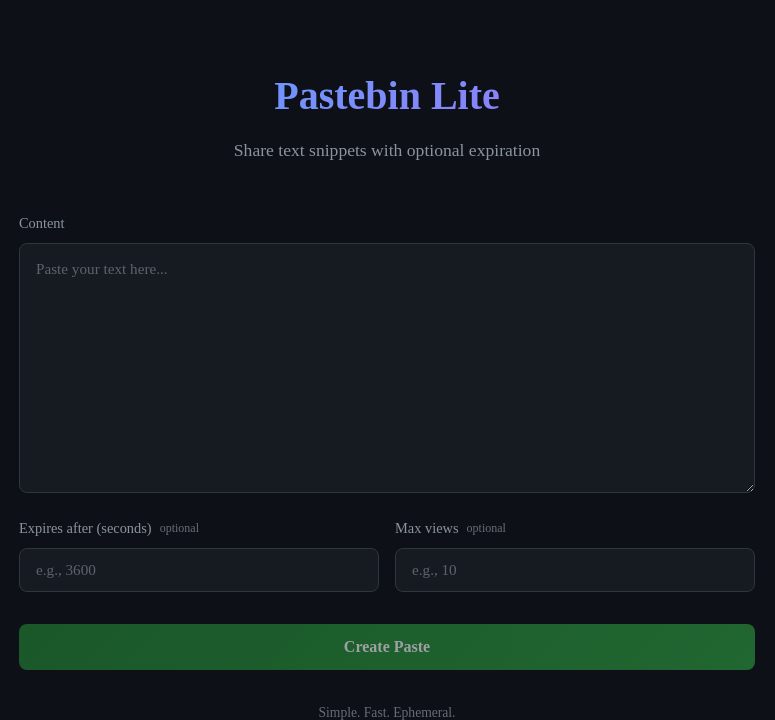
Home Page - Create Paste Form › form submission - success › should create paste and display URL on success
The width and height of the screenshot is (775, 720).
# Fill in content
Type "Test paste content" into the text box labelled "Content".
click(387, 368); type("Test paste content")  # box [19,243,755,493]
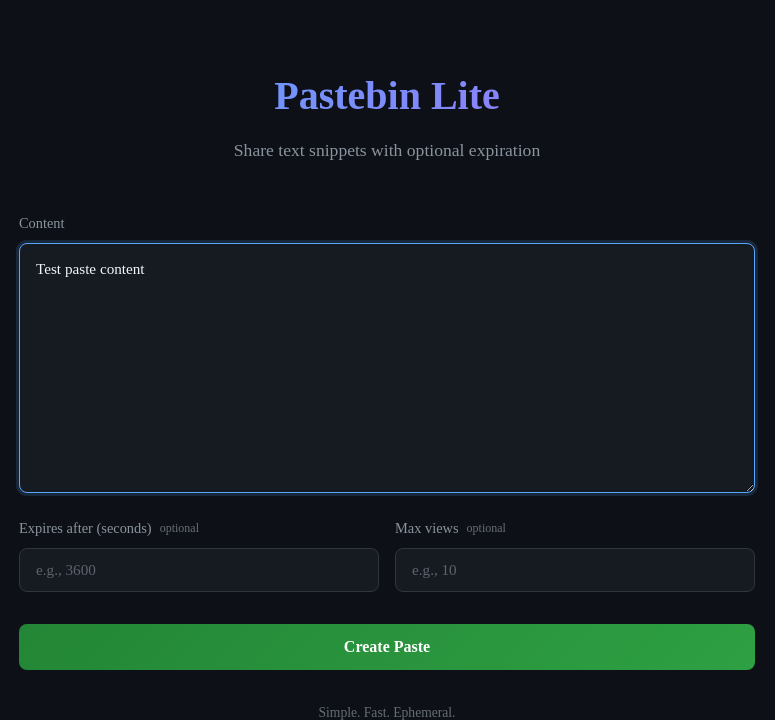
# Submit form
Click the button "Create Paste".
click(387, 647)  # box [19,624,755,670]
(page scrolled)
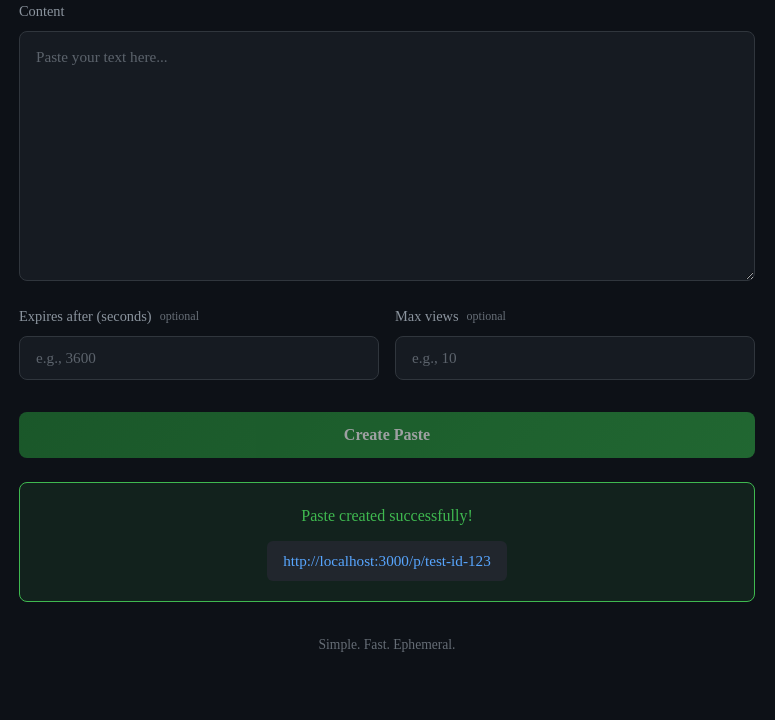
Expected: the text "Paste created successfully!" is shown, [301,507,473,524]
